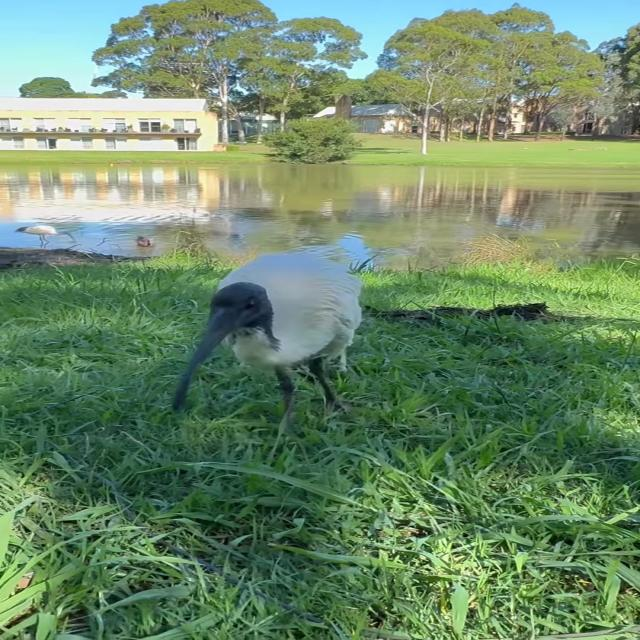Birds-Ibis: (164, 246, 370, 428), (12, 218, 82, 254)
